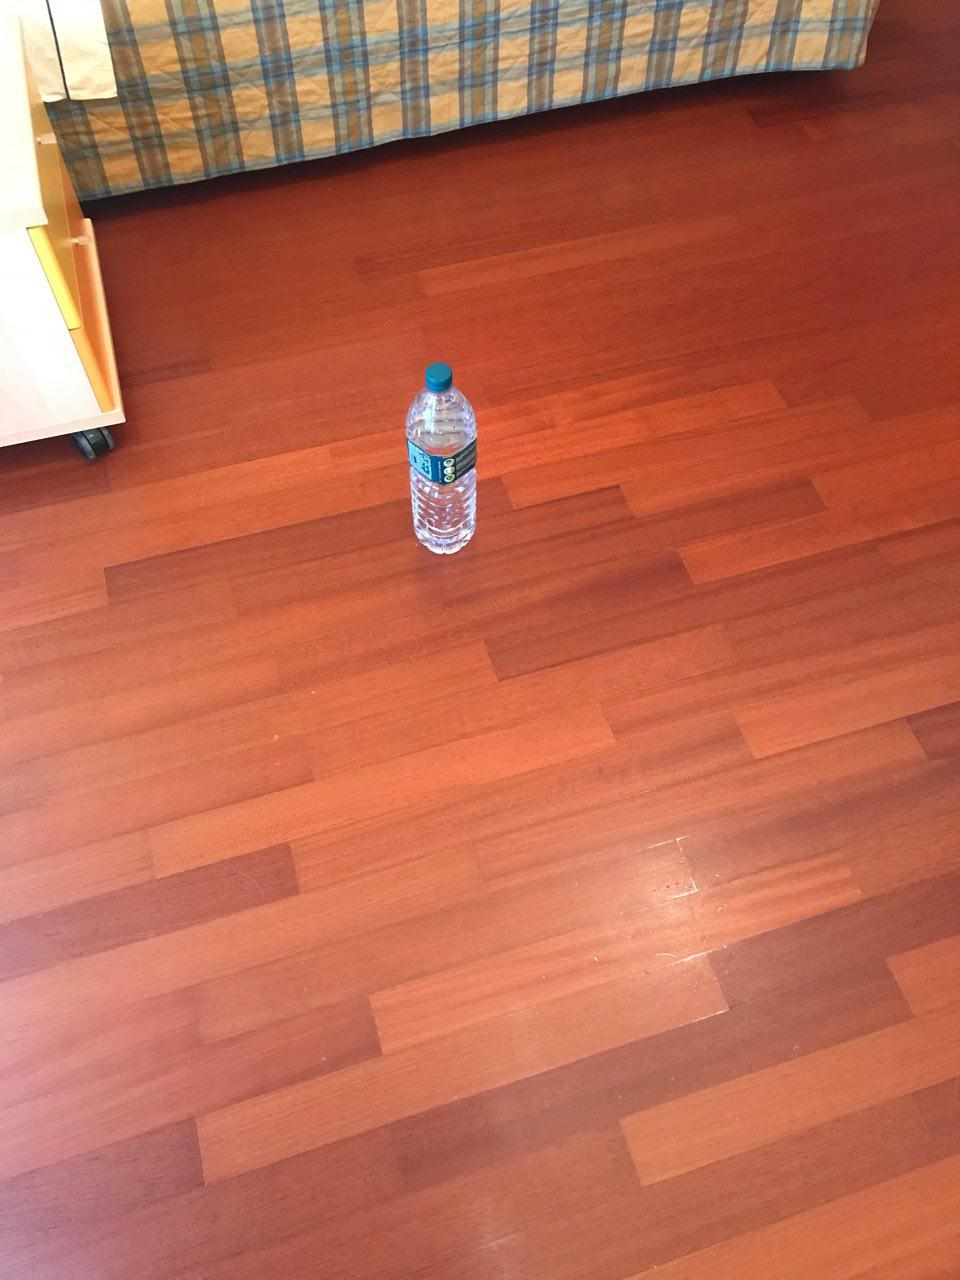san_bernardo: (404, 362, 478, 555)
